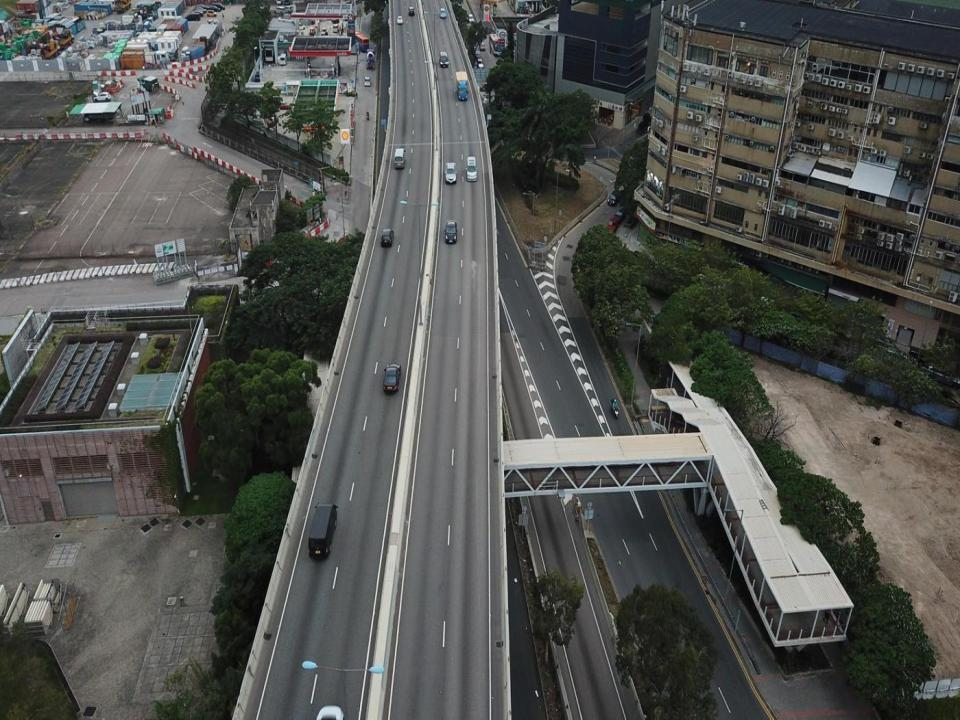bus: (350, 31, 371, 53), (487, 32, 502, 54)
car: (382, 361, 403, 393), (444, 160, 458, 185), (606, 188, 624, 207), (444, 221, 457, 246), (379, 228, 395, 248), (466, 155, 477, 183), (602, 215, 618, 234), (92, 90, 110, 102), (439, 49, 448, 70), (266, 114, 281, 126), (614, 207, 626, 221), (276, 98, 292, 108), (194, 3, 208, 13), (407, 5, 416, 18), (212, 2, 225, 11), (194, 6, 206, 15), (363, 75, 371, 88), (208, 4, 221, 12), (396, 14, 406, 24), (467, 12, 476, 23), (192, 9, 204, 17), (440, 7, 447, 20), (478, 40, 487, 50), (476, 58, 484, 68), (475, 50, 482, 61), (207, 10, 217, 16)
truck: (454, 70, 470, 102), (365, 48, 375, 72)
van: (307, 501, 339, 563), (390, 147, 406, 171), (279, 51, 287, 67), (184, 13, 200, 20)
